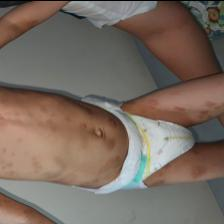DA: (43, 116, 119, 154)
